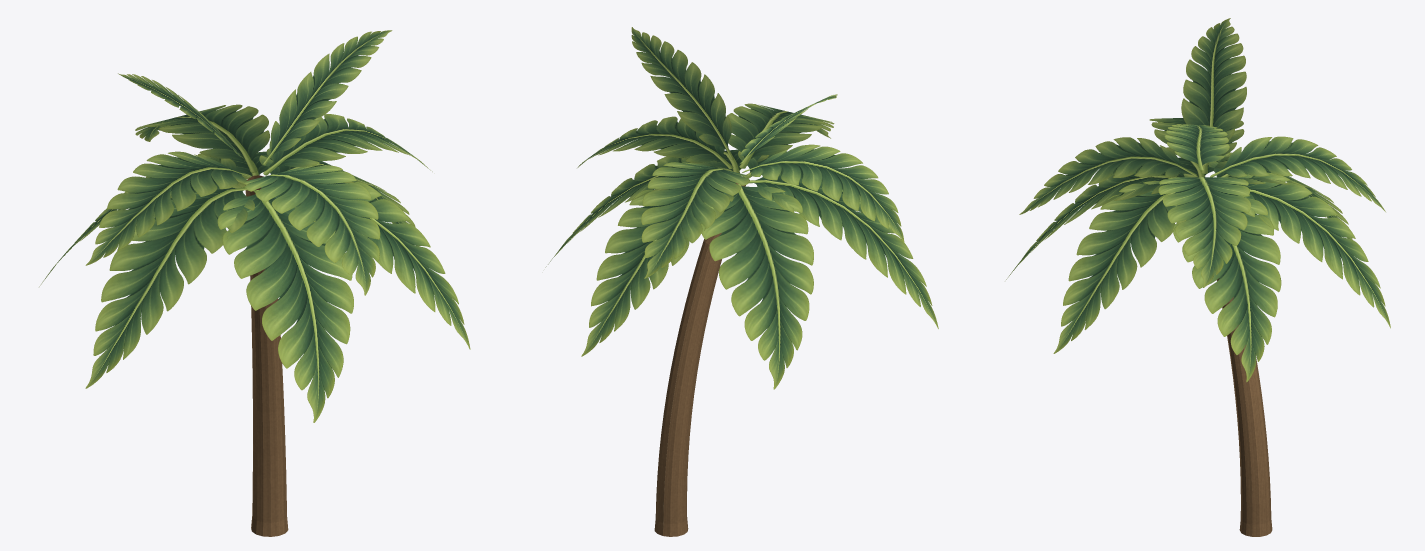
File: palm_round_v1.glb
3 views of the same model, side by side, from view 1: azimuth 30°, elevation 25°; view 2: azimuth 150°, elevation 25°; view 3: azimuth 270°, elevation 25° (orthographic). The views are drawn at different scales.
Visible parts, largest first — view 1: palm_round_v1; view 2: palm_round_v1; view 3: palm_round_v1.
Boxes of the visible parts, x1,y1,x2,y2 form: palm_round_v1: [39, 30, 470, 536]; palm_round_v1: [545, 27, 938, 536]; palm_round_v1: [1006, 18, 1390, 536].
Bounding box in the file's own units: 3.84 × 4.47 × 3.89.
2 materials, 2 textured.
